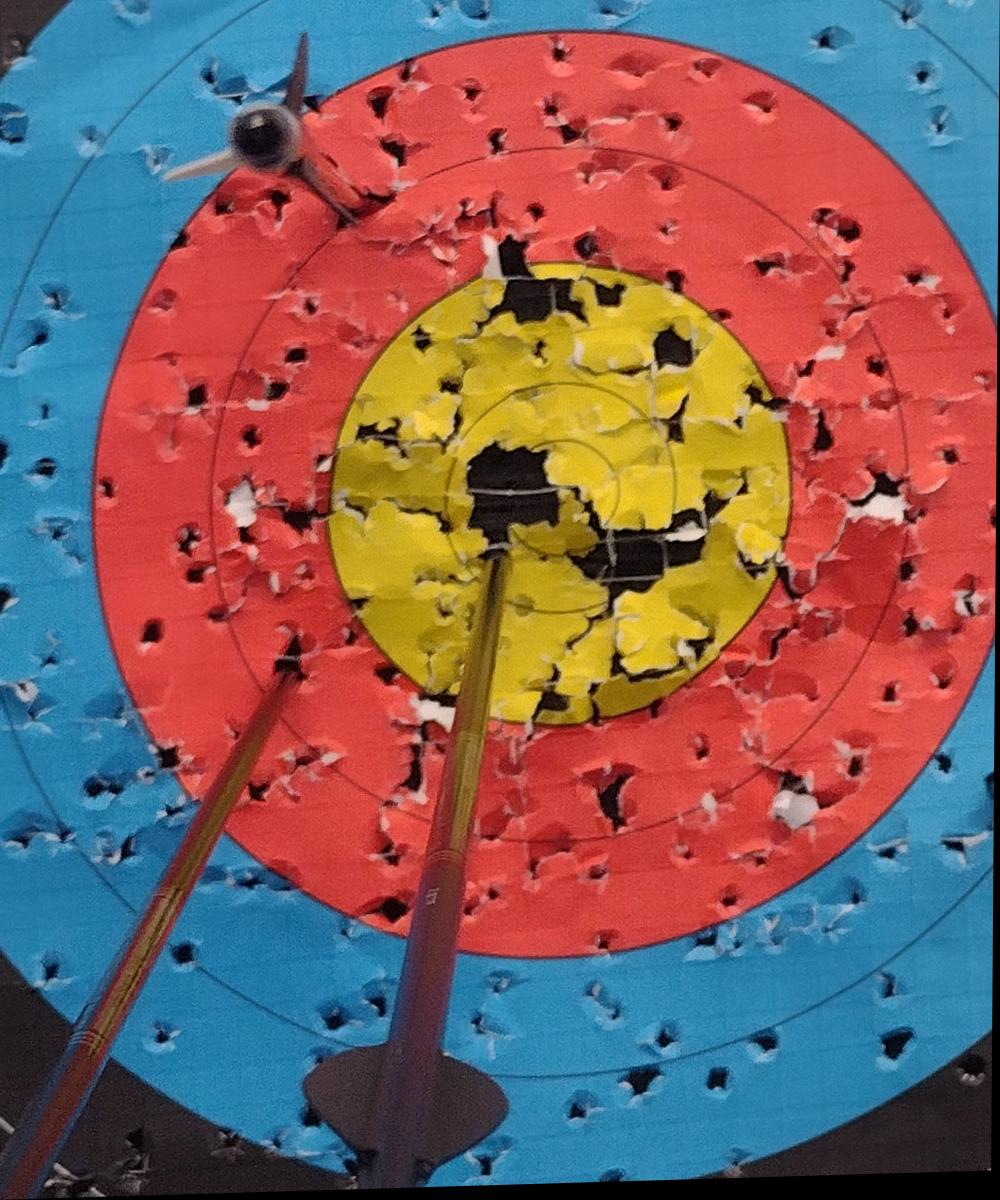10-Ring: (441, 385, 679, 621)
5-Ring: (0, 0, 1000, 1190)
6-Ring: (0, 0, 999, 1083)
7-Ring: (93, 31, 1000, 965)
8-Ring: (211, 152, 909, 849)
9-Ring: (332, 266, 791, 731)
Arrow: (0, 638, 317, 1200), (303, 557, 511, 1192), (160, 33, 424, 298)
